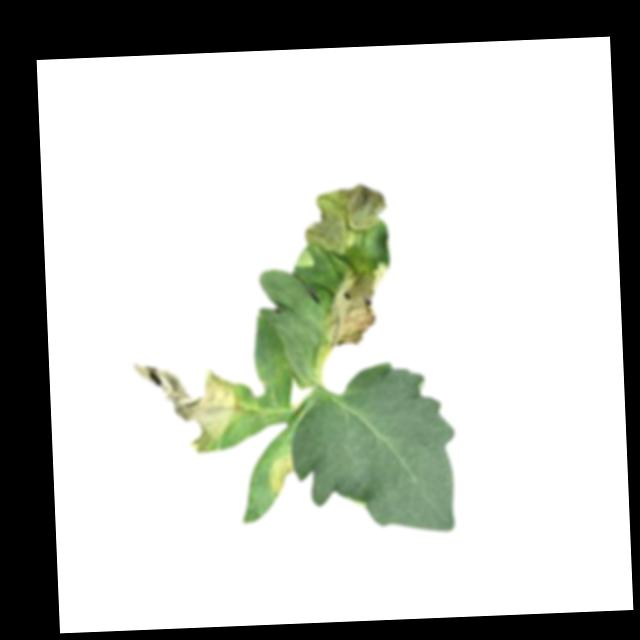Late_blight: (130, 354, 248, 457), (292, 182, 390, 266), (317, 257, 395, 347), (267, 456, 295, 501)
